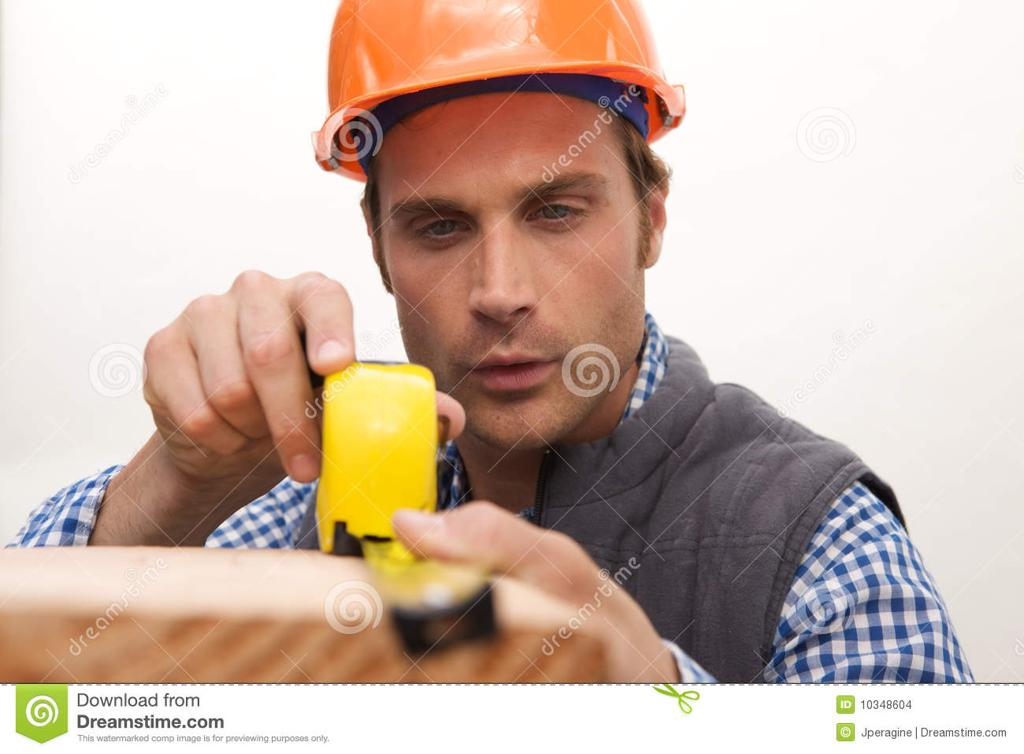face: (390, 84, 620, 424)
